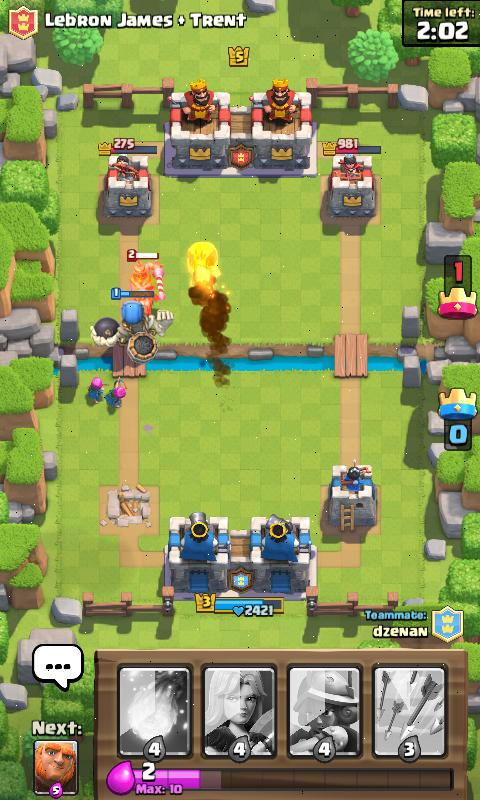EKingTower: (169, 79, 229, 170), (250, 79, 310, 167)
EPrince: (129, 253, 164, 296)
EnemyPrincessTower: (328, 151, 375, 216), (104, 156, 150, 215)
OArcher: (106, 382, 125, 406), (88, 377, 102, 403)
OGiantSkeleton: (91, 299, 173, 362)
OwnKingTower: (165, 512, 229, 594), (251, 514, 310, 598)
OwnPrincessTower: (329, 461, 375, 530)
TowerDown: (100, 486, 158, 533)
ofireball: (188, 242, 220, 296)
